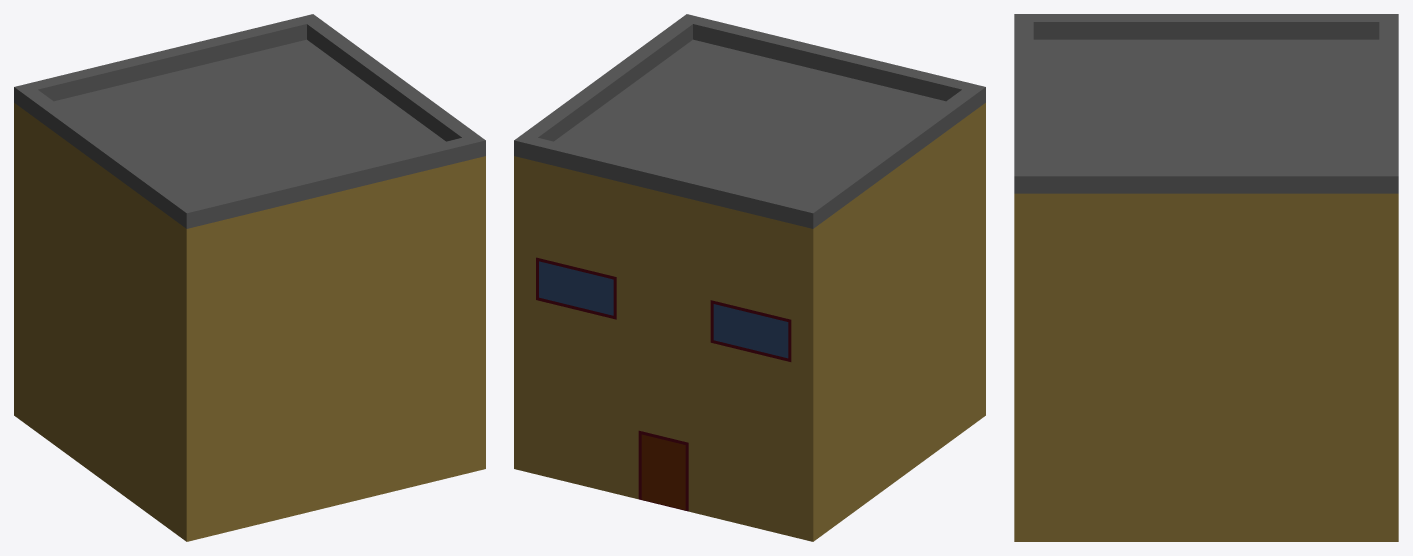
File: Casa.fbx
3 renders of one model, left to right at view 1: azimuth 30°, elevation 25°; view 2: azimuth 150°, elevation 25°; view 3: azimuth 270°, elevation 25°, orthographic. The views are drawn at different scales.
Parts seen in each view (by area): view 1: House; view 2: House; view 3: House.
Boxes of the visible parts, <box> form: House: <box>14,14,485,541</box>; House: <box>514,14,985,541</box>; House: <box>1014,14,1398,541</box>.
Size of the model in its own units: 1000 by 1050 by 1000.
